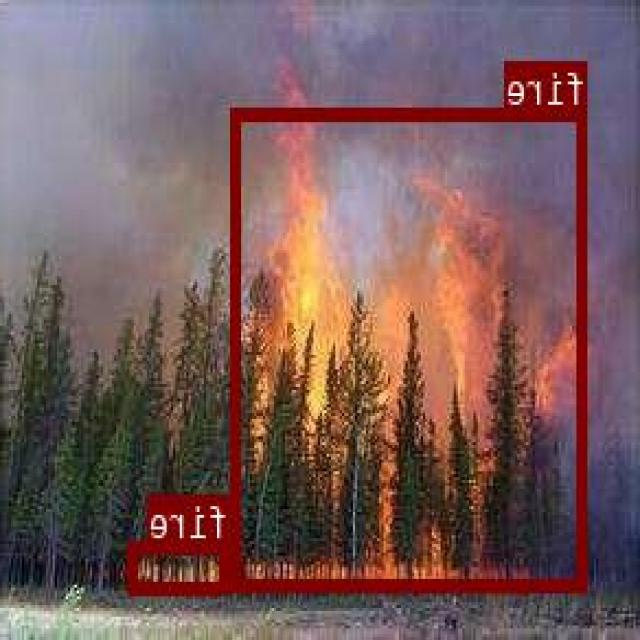fire: (233, 106, 588, 590), (132, 540, 232, 592)
